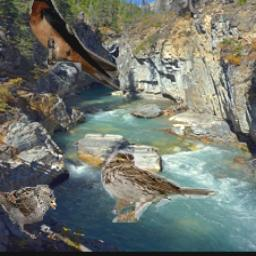Sparrow: (101, 151, 219, 224), (0, 185, 58, 239)
Swallow: (29, 0, 127, 91)
